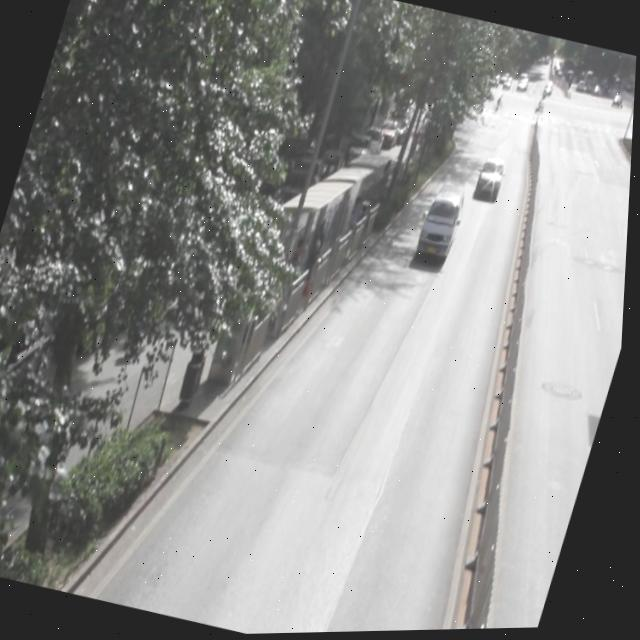car: (475, 153, 509, 198)
truck: (417, 179, 471, 260)
